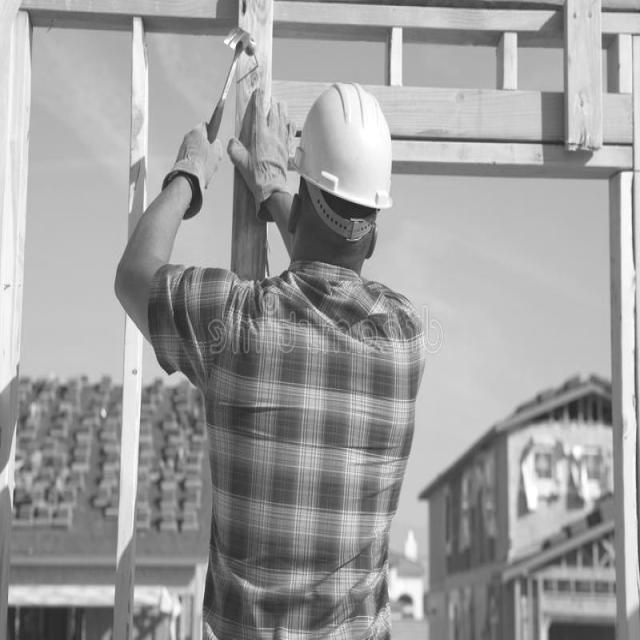hand_glove: (232, 88, 306, 222), (140, 113, 230, 200)
head_helmet: (286, 77, 402, 198)
person: (202, 65, 420, 630)
